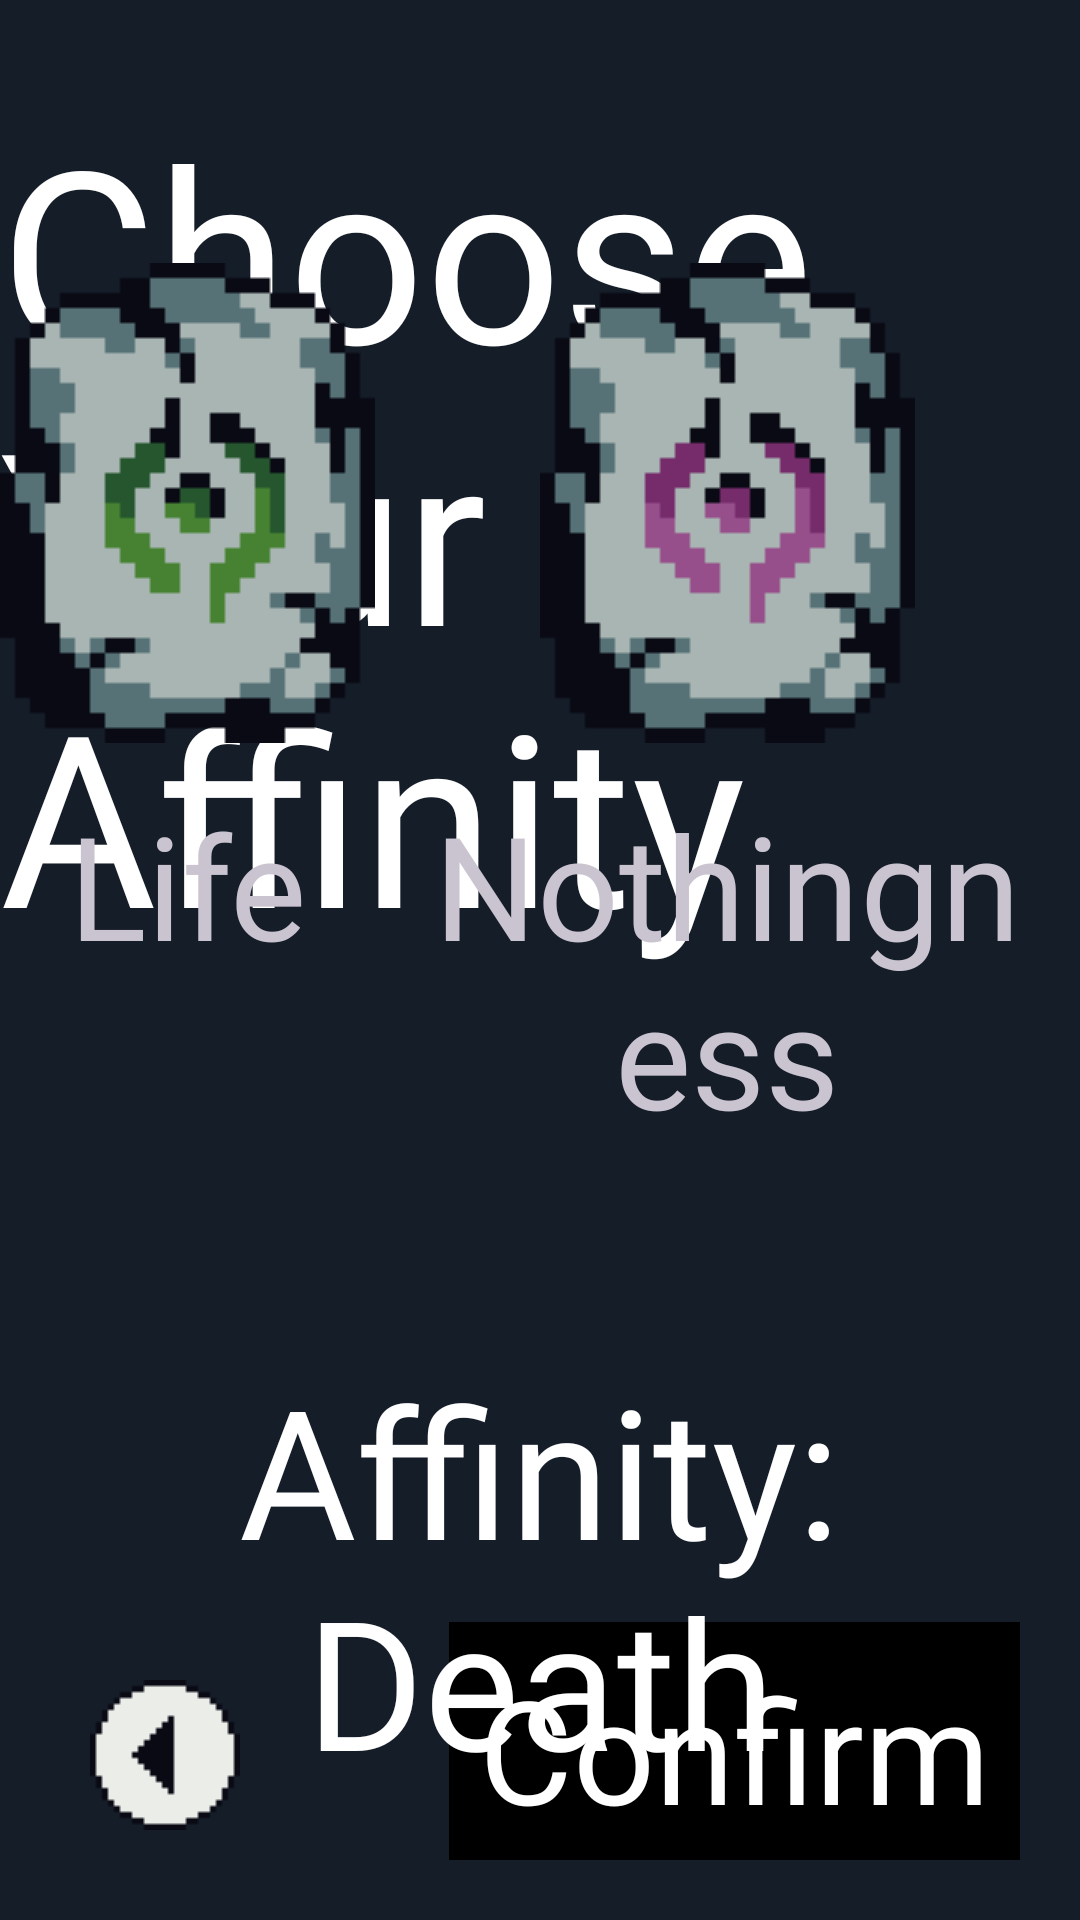

Screen size 1080px×1920px. Icon name, then its center in pixels as (x=x, y=y):
back: (x=165, y=1755)
